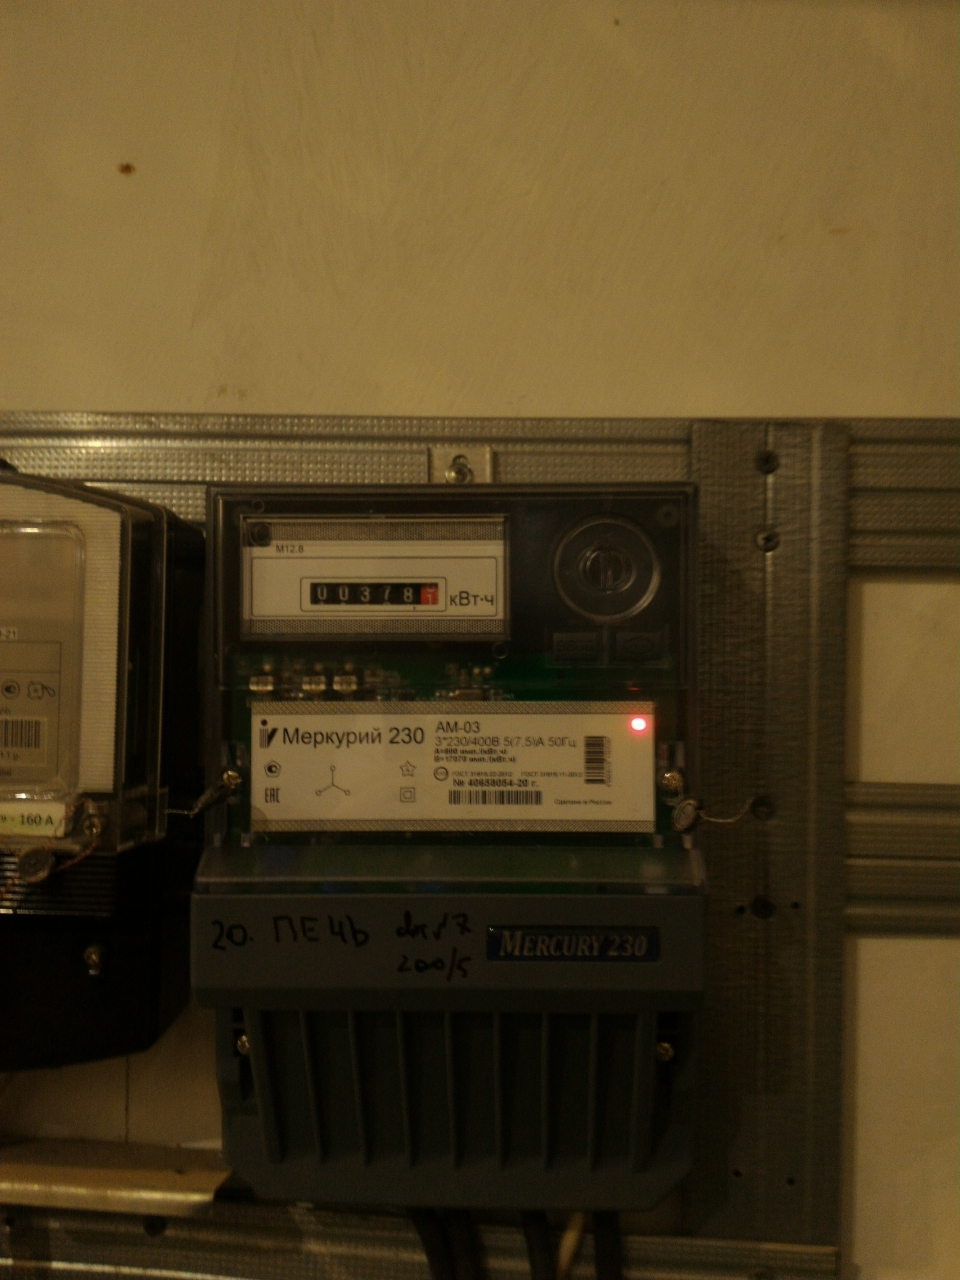0: (315, 583, 328, 600), (338, 584, 349, 601)
1: (424, 592, 433, 605)
3: (359, 585, 371, 602)
7: (381, 584, 392, 601)
8: (402, 586, 415, 604)
screen: (302, 575, 451, 613)
